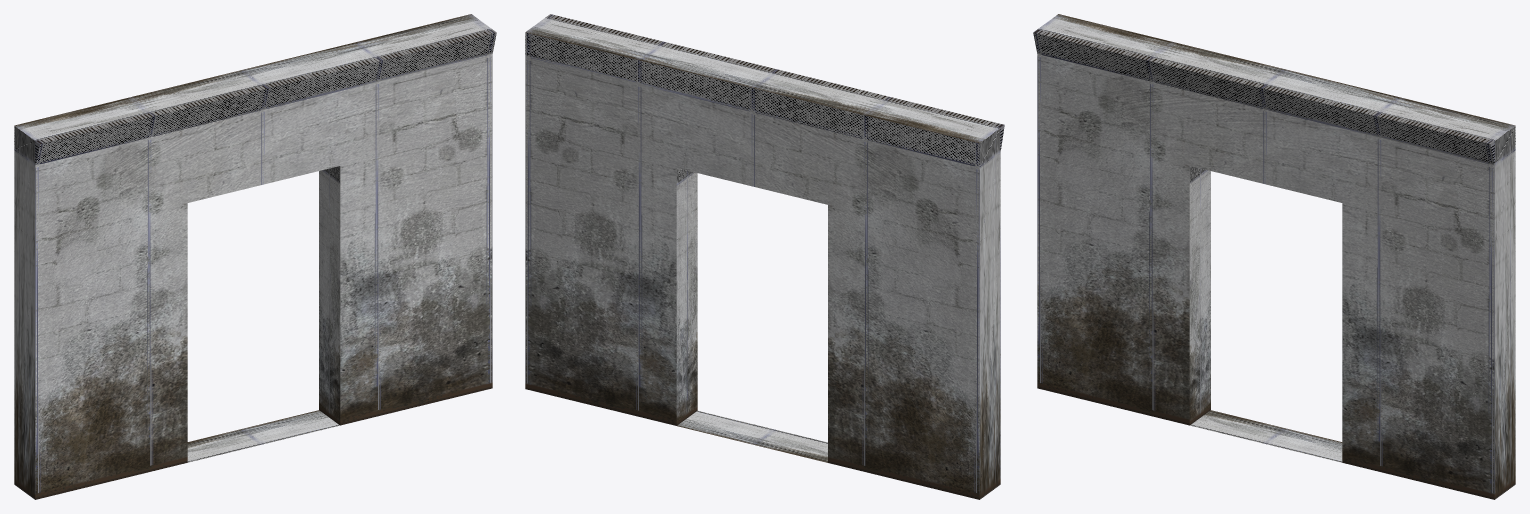
The model's file is Wall 1 frame.fbx.
The picture shows the model from 3 angles, left to right: view 1: azimuth 30°, elevation 25°; view 2: azimuth 150°, elevation 25°; view 3: azimuth 330°, elevation 25°; orthographic projection.
Visible parts, largest first — view 1: hallway 1.frame; view 2: hallway 1.frame; view 3: hallway 1.frame.
Boxes of the visible parts, <box> form: hallway 1.frame: <box>14,14,496,499</box>; hallway 1.frame: <box>525,14,1004,499</box>; hallway 1.frame: <box>1033,14,1515,499</box>.
Size of the model in its own units: 400 by 300 by 38.35.
1 material, 1 textured.
